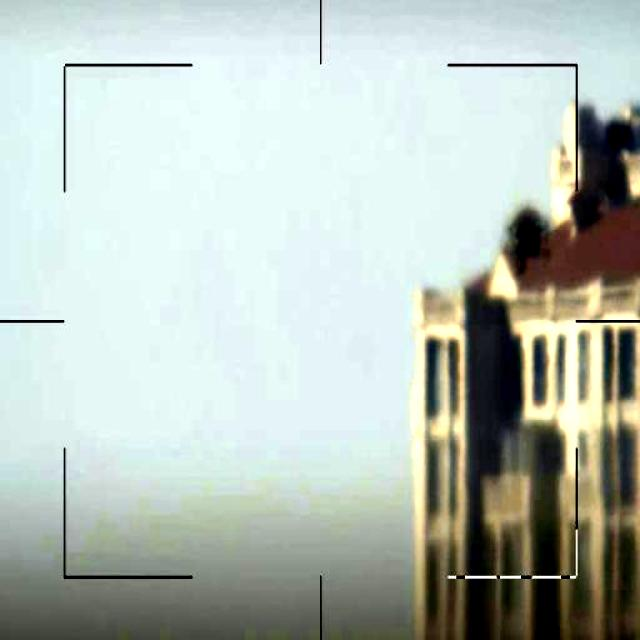bird: (501, 205, 550, 282)
